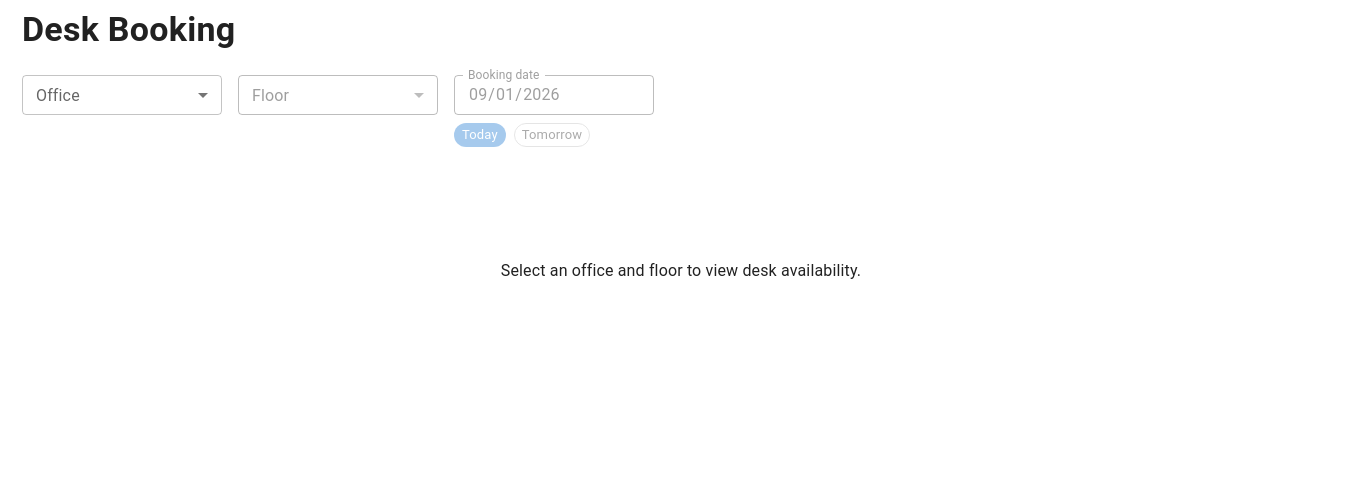
Scenario: DeskBookingPage — floor selection (TD-033) › shows a 'map not available' note for a floor with desks but no layout (PR 070 #6)
What coordinates should you click on to do the following:
click the 1st dropdown
I would click on:
 (122, 95)
Its box is [22, 75, 222, 115].
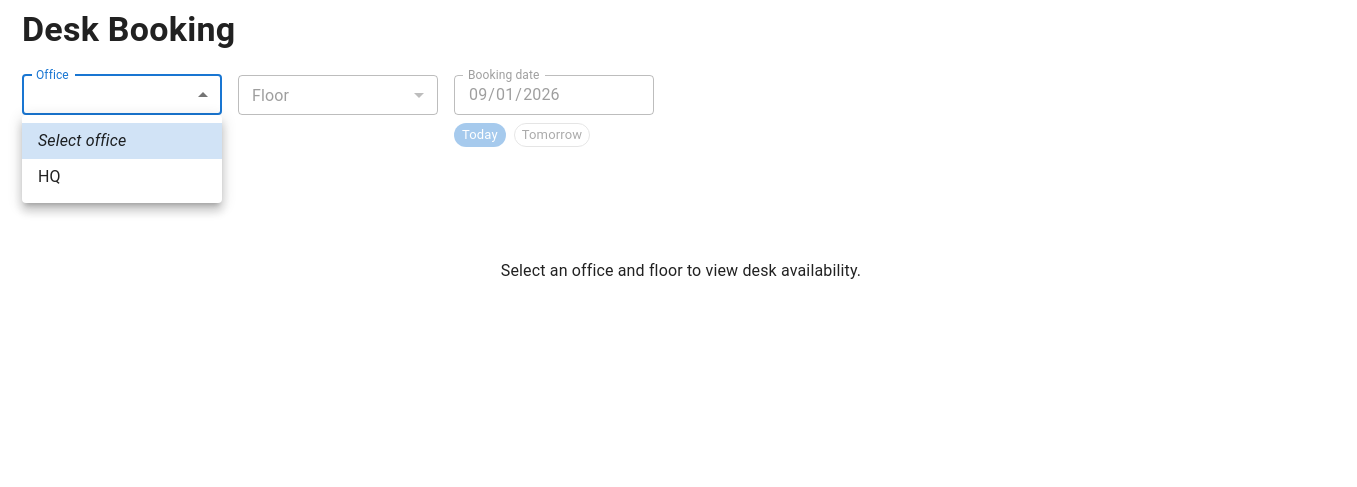
What coordinates should you click on to do the following:
click the option "HQ"
I would click on:
 (49, 176)
Its box is [38, 167, 61, 186].
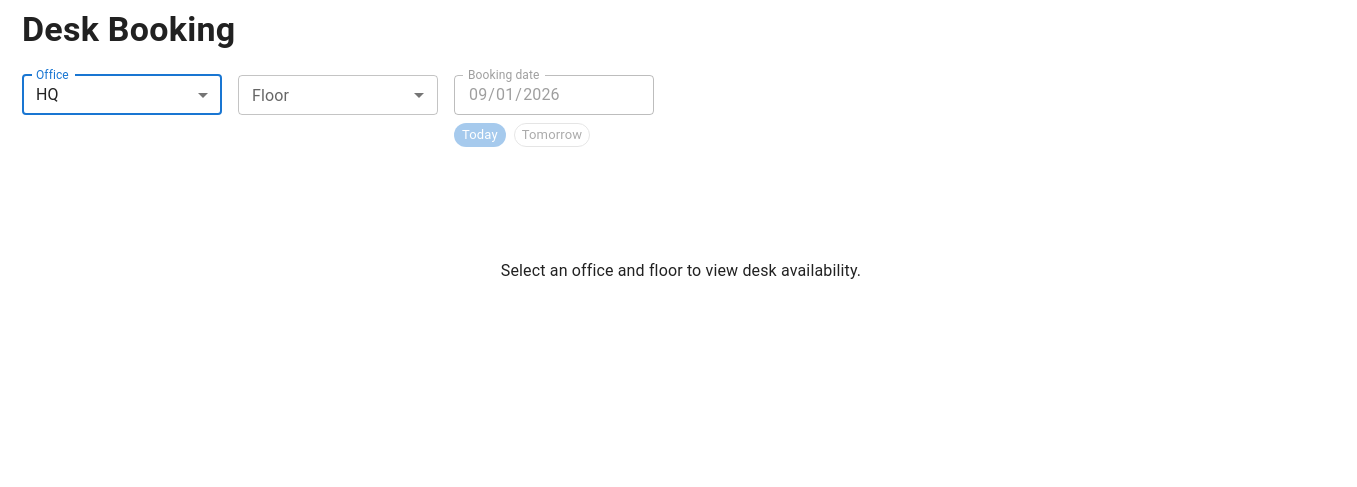
What coordinates should you click on to do the following:
click the 2nd dropdown
I would click on:
 (338, 95)
Its box is [238, 75, 438, 115].
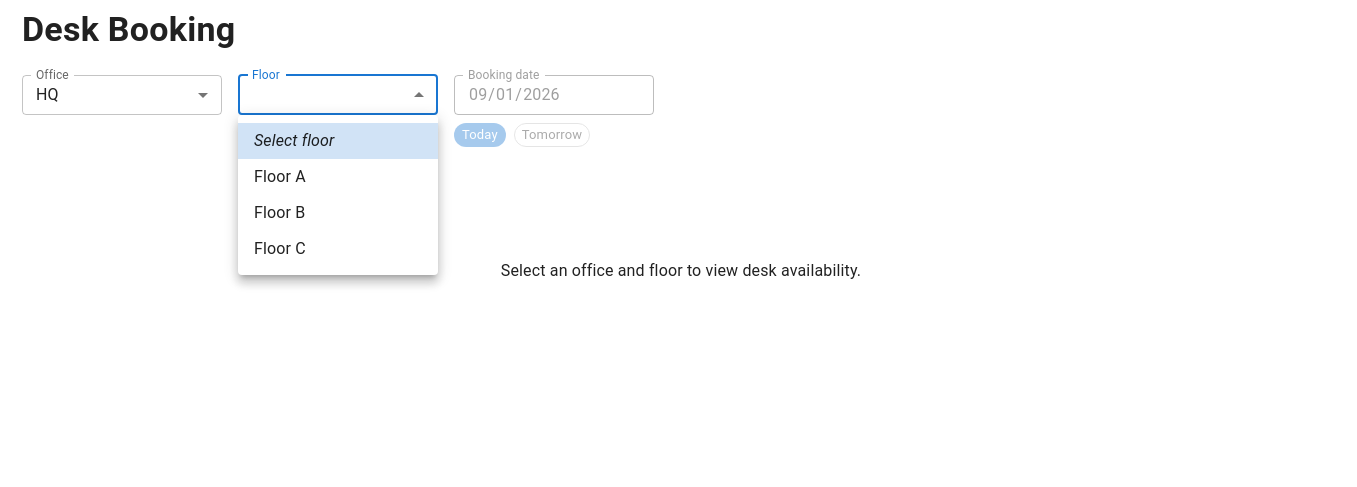
What coordinates should you click on to do the following:
click the option "Floor C"
I would click on:
 (280, 248)
Its box is [254, 239, 306, 258].
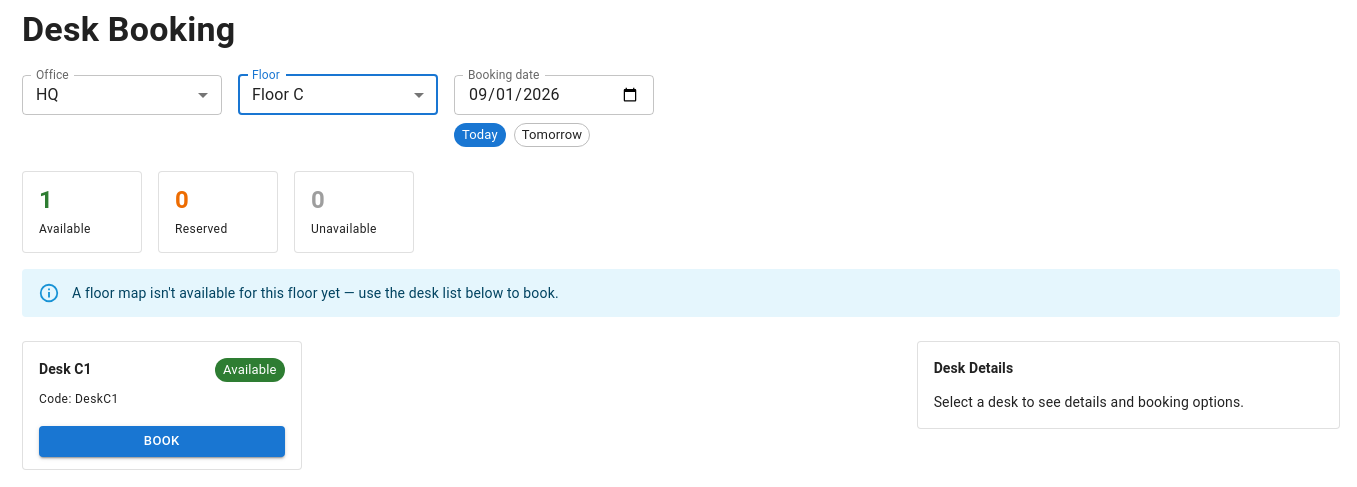
Expected: the heading "Desk C1" is shown, [39, 359, 92, 381]
Expected: the text "floor map isn't available for this floor" is shown, [72, 285, 559, 301]
